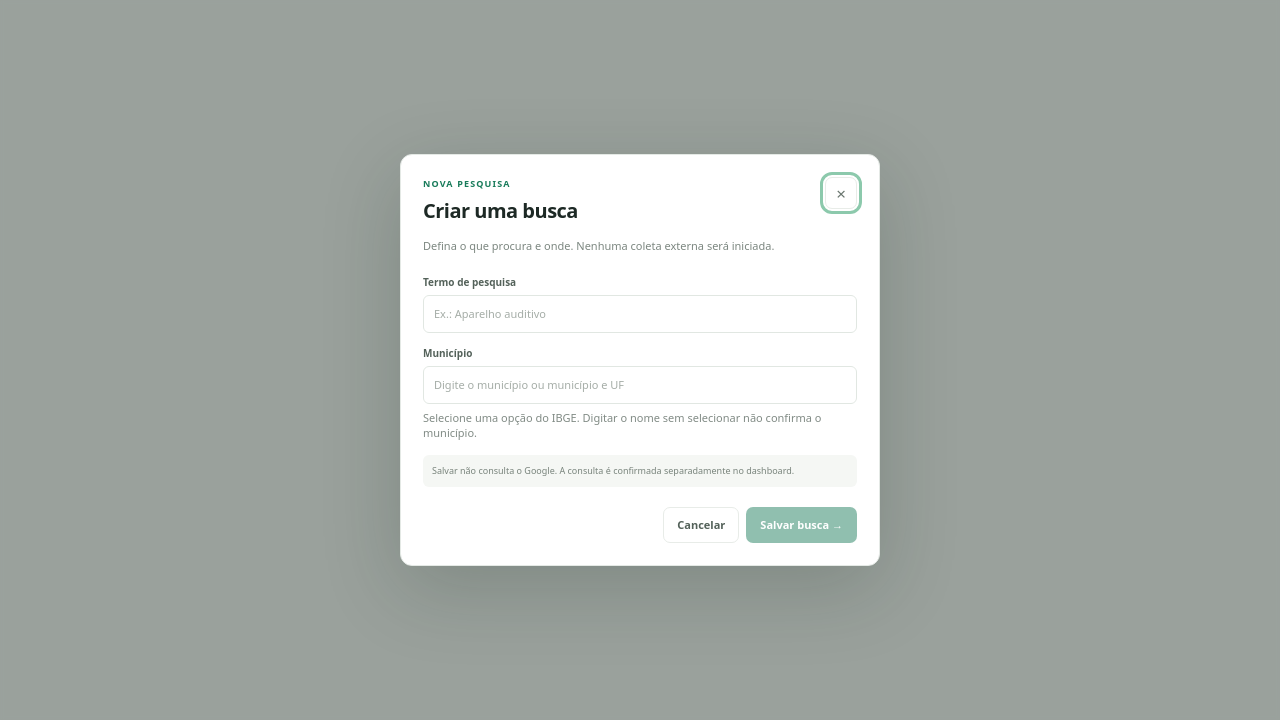
it: keyboard selection works and editing invalidates the previously selected municipality
Step 1. Type "BELEM al" into the dropdown → {"x": 640, "y": 385}, box [423, 366, 857, 404]
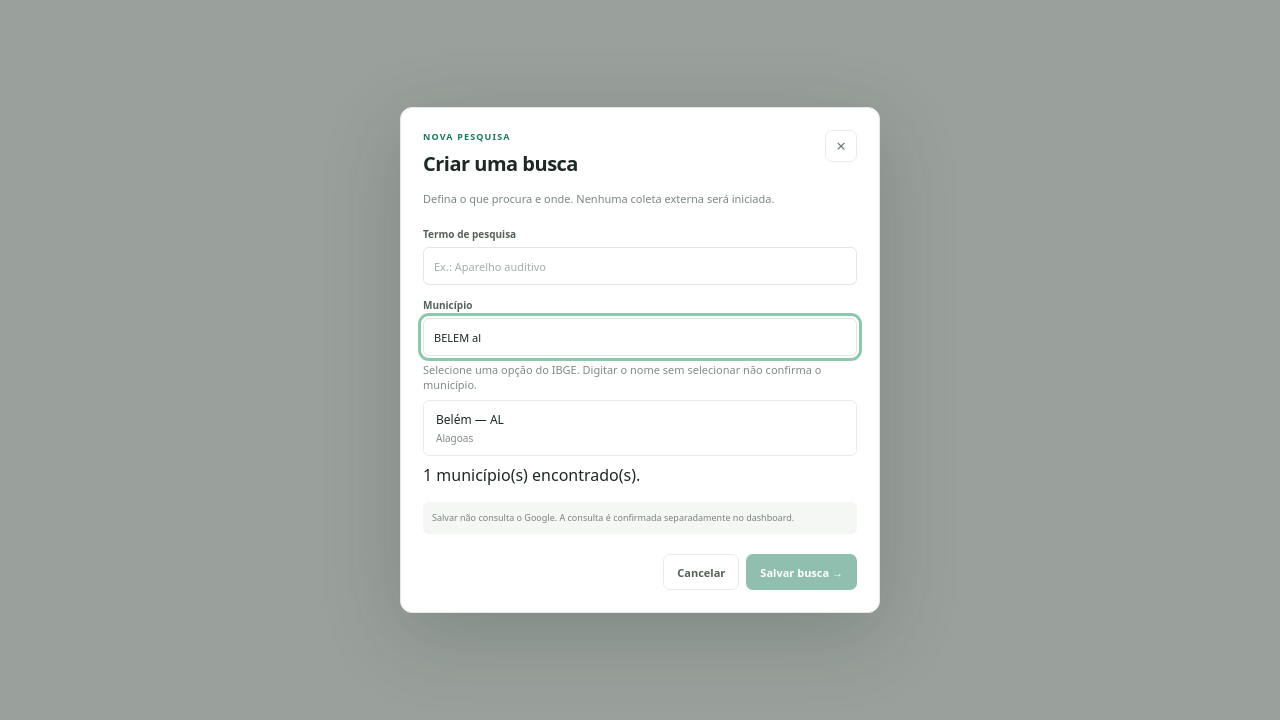
expect the number of options is 1: met, box [436, 411, 504, 445]
Step 2. Press Arrowdown Enter
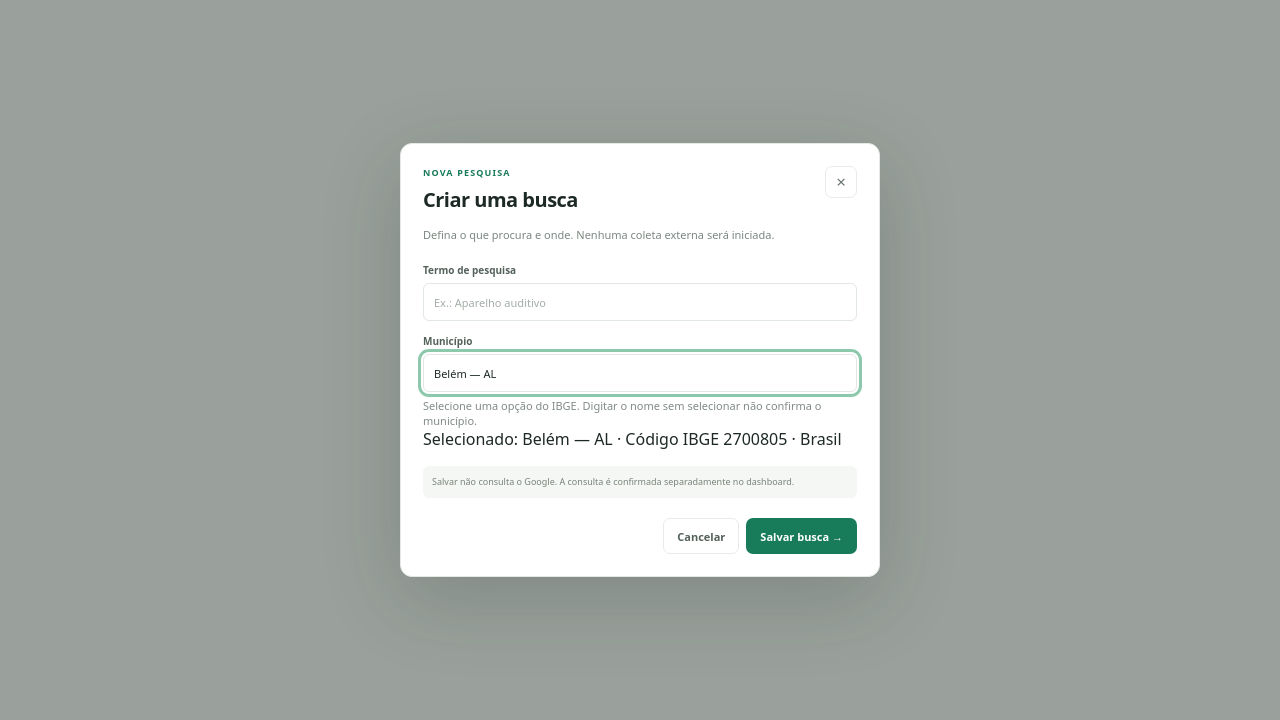
expect the dropdown holds "Belém — AL": met
expect the text "Selecionado: Belém — AL · Código IBGE 2700805 · Brasil" is shown: met, box [423, 428, 857, 450]
Step 3. Clear the dropdown → {"x": 640, "y": 373}, box [423, 354, 857, 392]
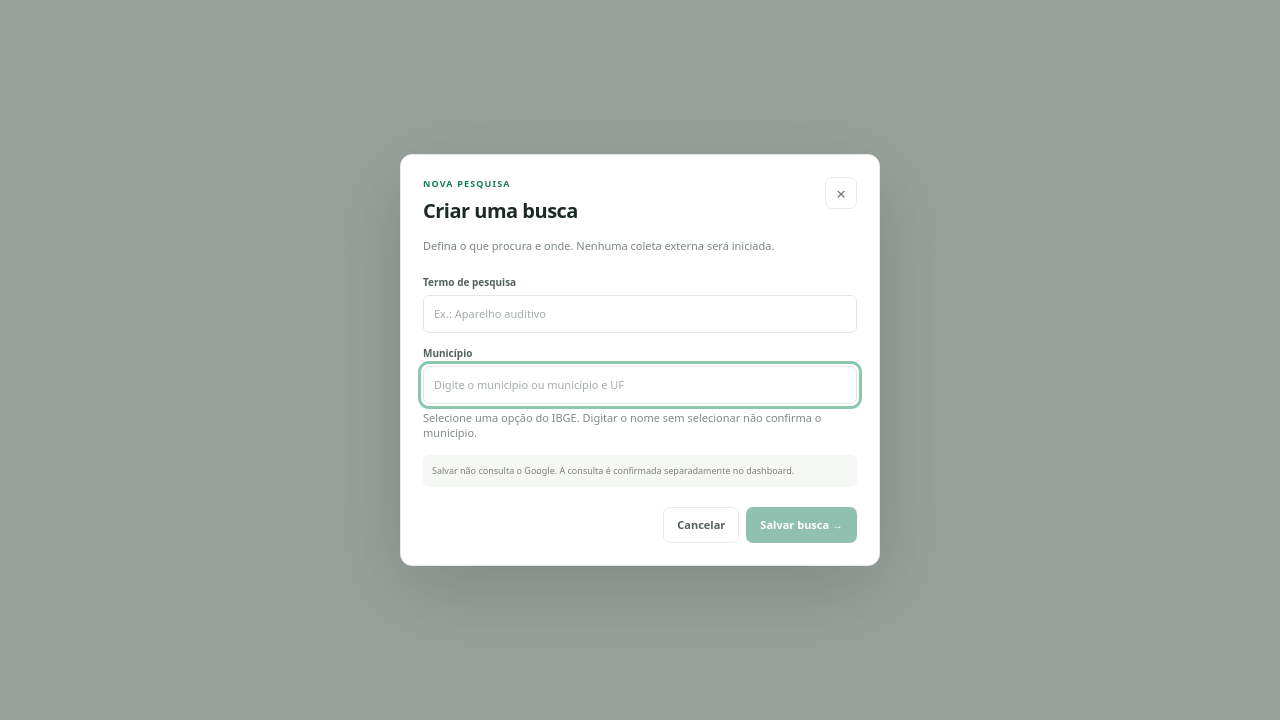
expect the button "Salvar busca →" is disabled: met, box [746, 506, 857, 542]
Step 4. Type "inexistente" into the dropdown → {"x": 640, "y": 385}, box [423, 366, 857, 404]
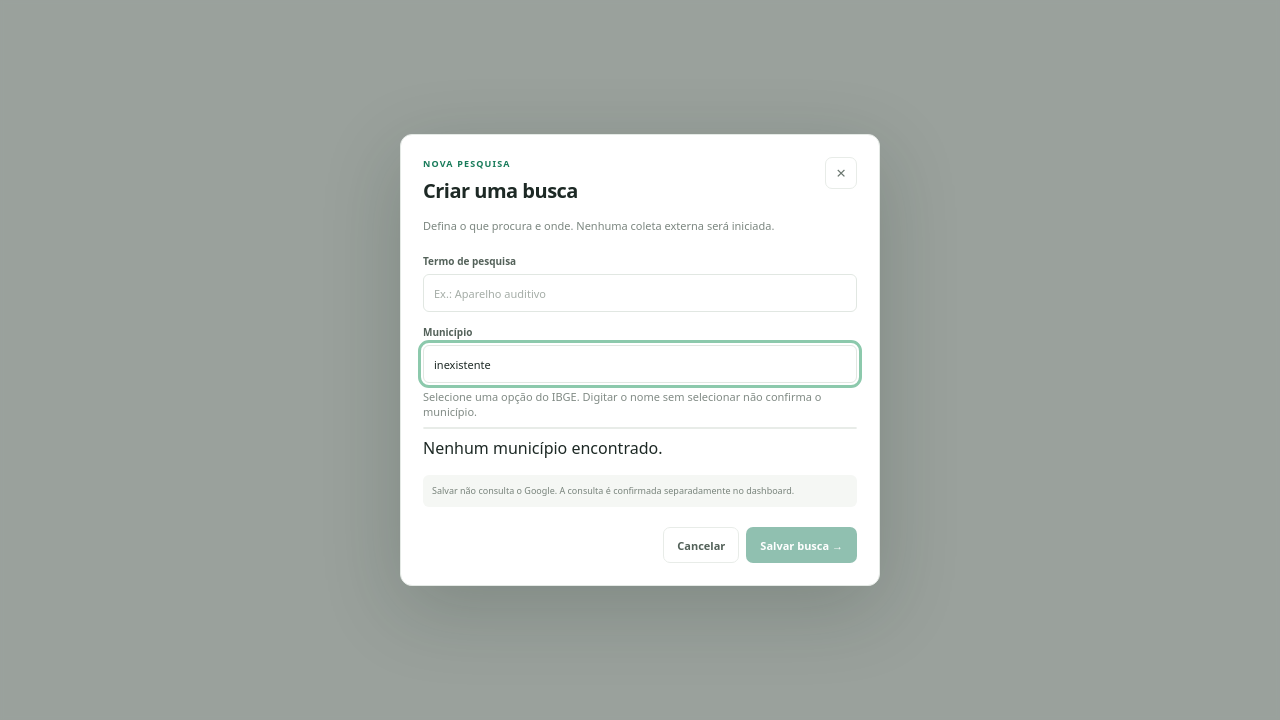
expect the text "Nenhum município encontrado." is shown: met, box [423, 437, 662, 459]
Step 5. Press Escape
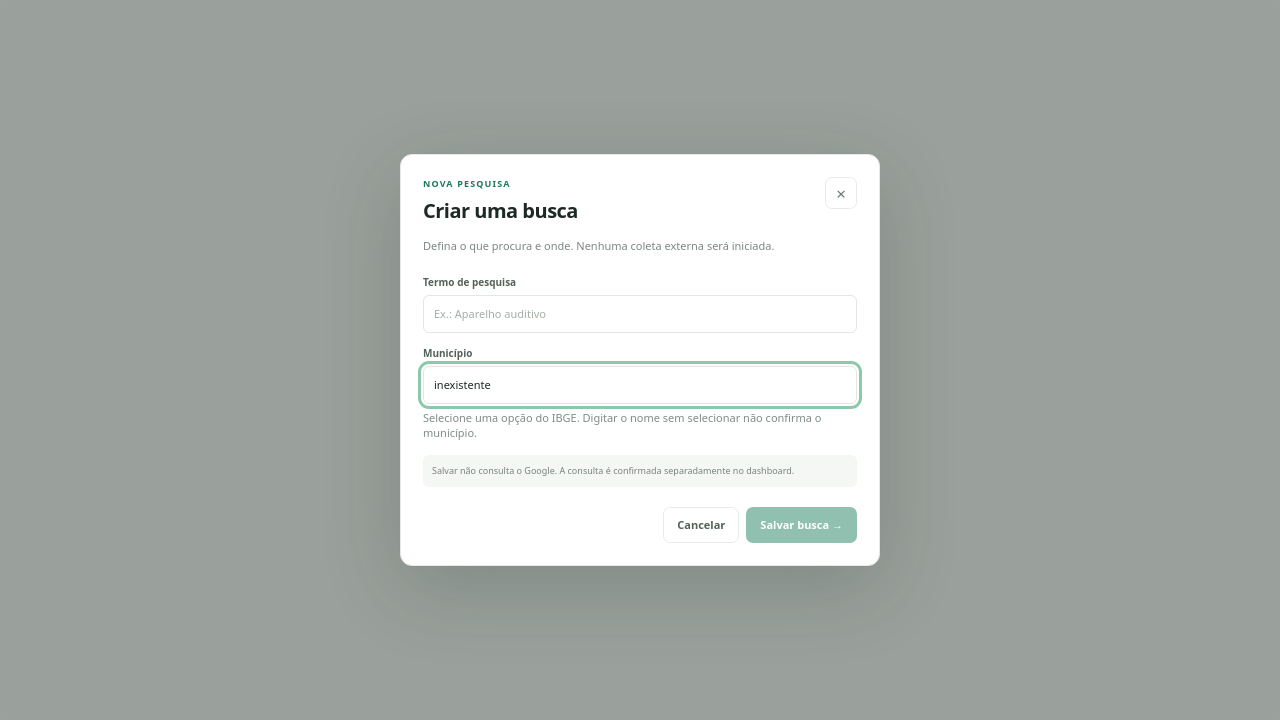
expect the dialog is shown: met, box [400, 154, 880, 566]
expect the dropdown is collapsed: met, box [423, 366, 857, 404]
